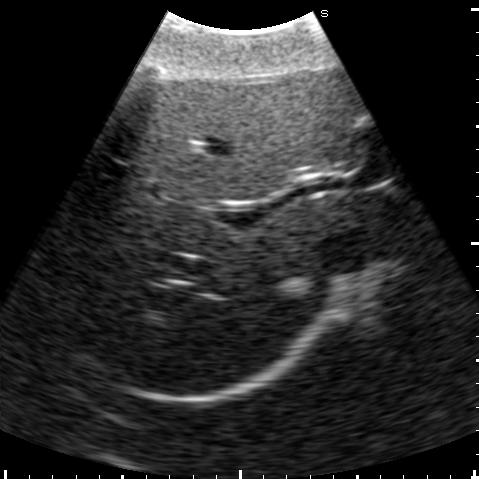IVC: (319, 232, 376, 271)
S1: (354, 197, 426, 249)
S4: (121, 63, 369, 198)
Tumor: (279, 276, 310, 293)
